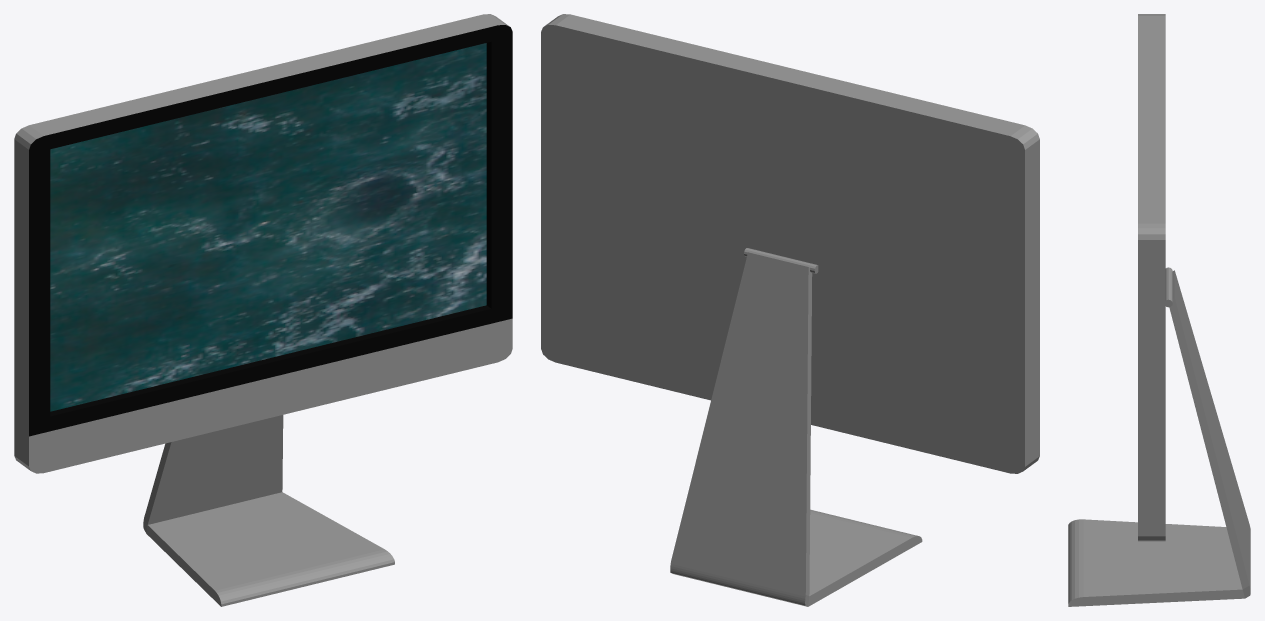
The model's file is le_imac_001.glb.
3 views of the same model, side by side, from view 1: azimuth 30°, elevation 25°; view 2: azimuth 150°, elevation 25°; view 3: azimuth 270°, elevation 25° (orthographic). The views are drawn at different scales.
Parts seen in each view (by area): view 1: Cube.002, Cube, Cube.001; view 2: Cube; view 3: Cube.
Boxes of the visible parts, bbox=[...] form: Cube.002: bbox=[50, 43, 486, 411]; Cube: bbox=[14, 14, 512, 606]; Cube.001: bbox=[29, 25, 512, 436]; Cube: bbox=[541, 14, 1039, 606]; Cube: bbox=[1068, 14, 1250, 606].
Bounding box in the file's own units: 3 × 2.84 × 1.05.
3 materials, 1 textured.
